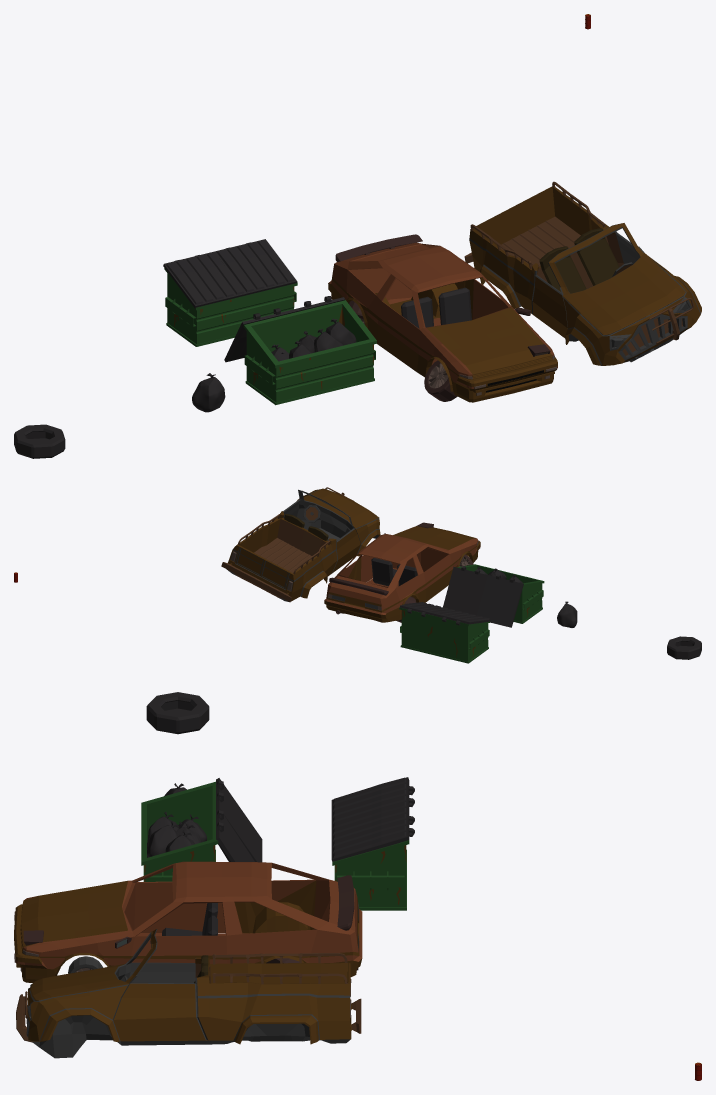
Rendered from Trash Assets.fbx.
3 renders of one model, top to bottom at view 1: azimuth 30°, elevation 25°; view 2: azimuth 150°, elevation 25°; view 3: azimuth 270°, elevation 25°, orthographic. The views are drawn at different scales.
Parts seen in each view (by area): view 1: Bakkie, Sports, DumpsterOpen, DumpsterClosed, Tire, TrashBag; view 2: Bakkie, Sports, DumpsterOpen, DumpsterClosed, Tire, TrashBag; view 3: Sports, Bakkie, DumpsterClosed, DumpsterOpen, Tire.
Part boxes in pixels (box(x1,y1,x2,y2)): Bakkie: box(464, 181, 701, 365); Sports: box(328, 234, 557, 402); DumpsterOpen: box(224, 296, 376, 405); DumpsterClosed: box(163, 239, 297, 346); Tire: box(14, 424, 65, 458); TrashBag: box(192, 373, 225, 412); Bakkie: box(221, 487, 380, 602); Sports: box(324, 522, 480, 622); DumpsterOpen: box(443, 564, 544, 627); DumpsterClosed: box(399, 602, 490, 663); Tire: box(667, 636, 701, 659); TrashBag: box(557, 601, 577, 627); Sports: box(14, 861, 362, 982); Bakkie: box(16, 929, 361, 1058); DumpsterClosed: box(331, 777, 414, 910); DumpsterOpen: box(141, 778, 262, 881); Tire: box(146, 692, 209, 734).
Bounding box in the file's own units: 851 × 108 × 533.
